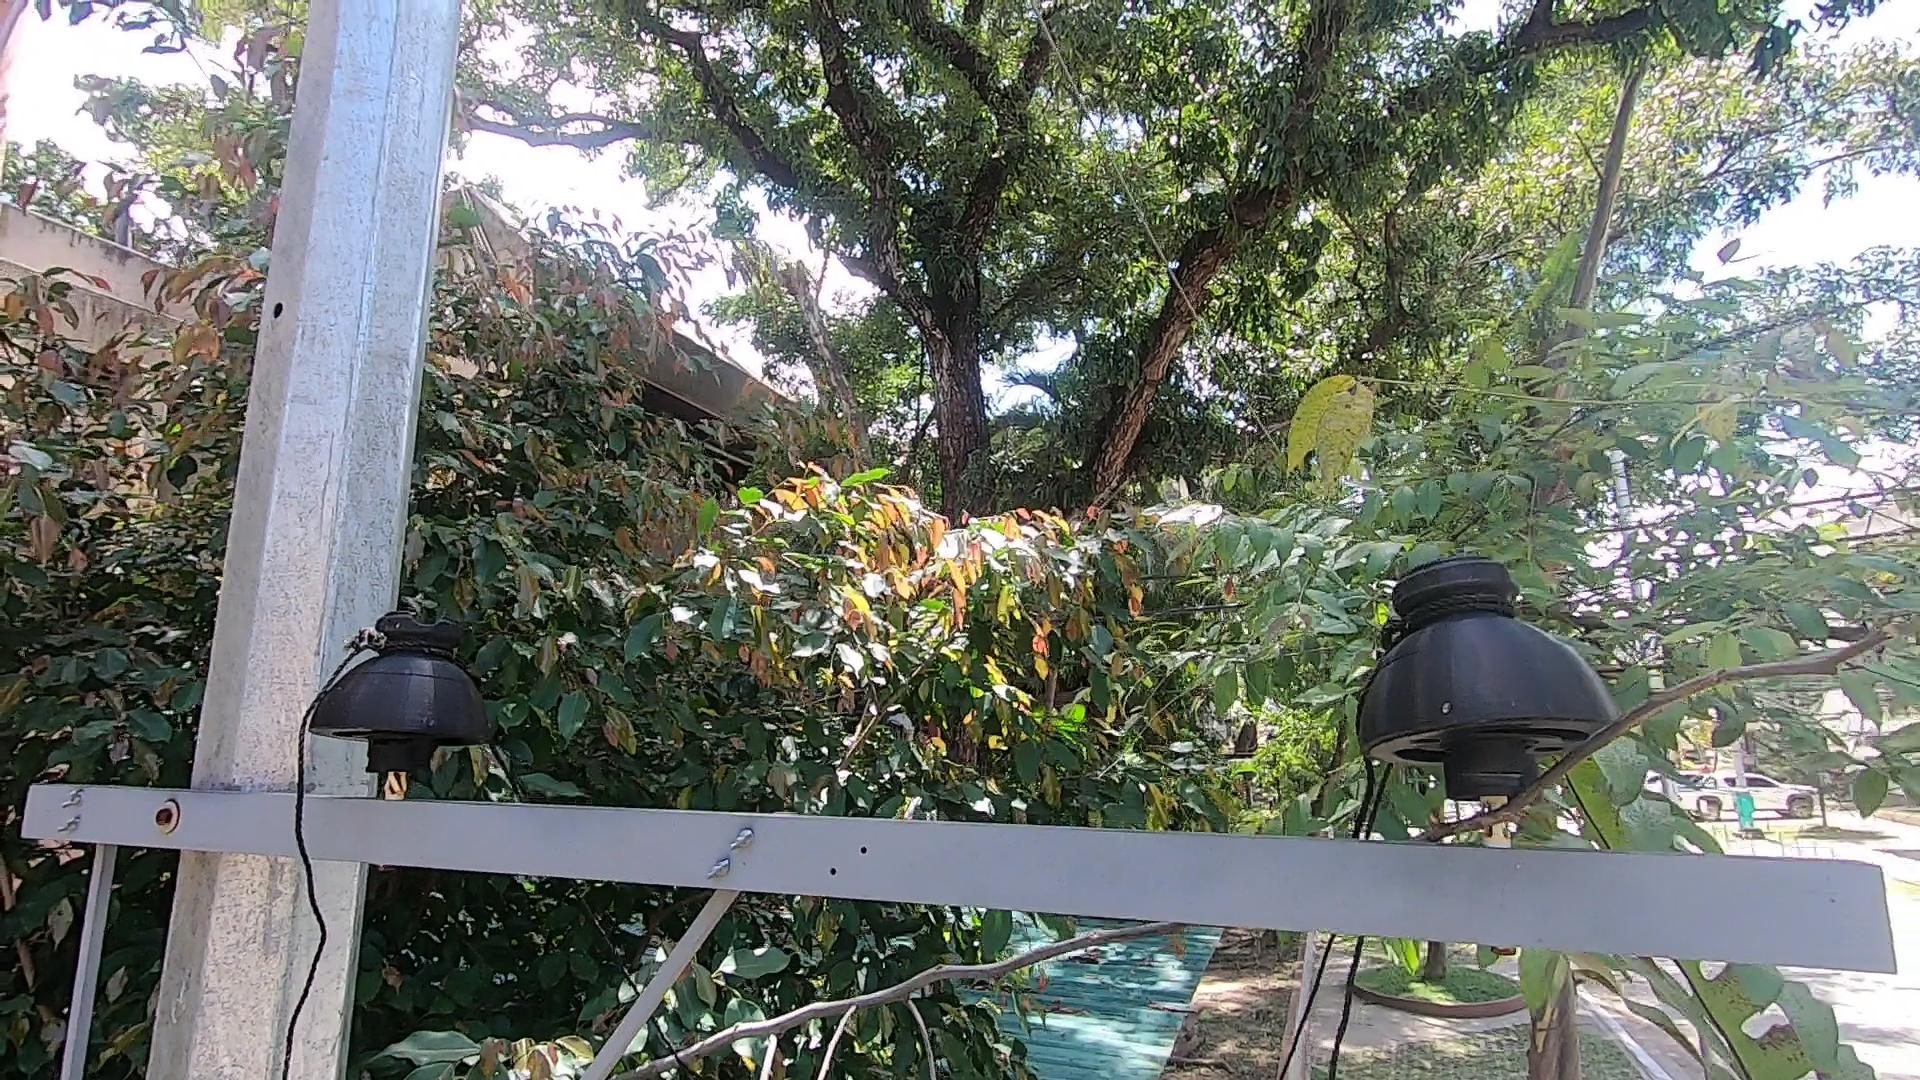tree branch: (583, 624, 1902, 1077)
